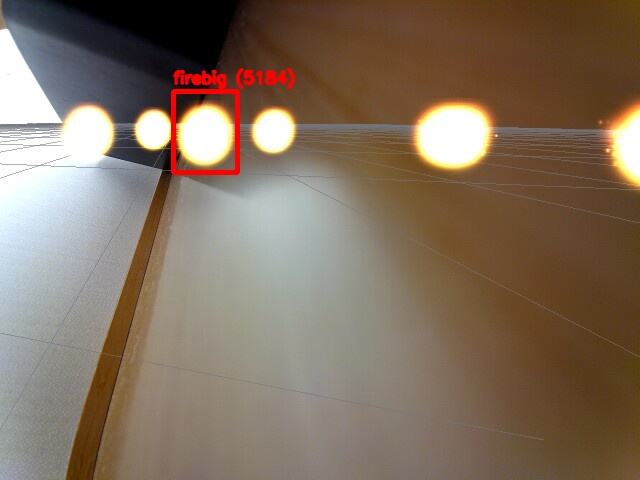firebig: (173, 91, 237, 172)
